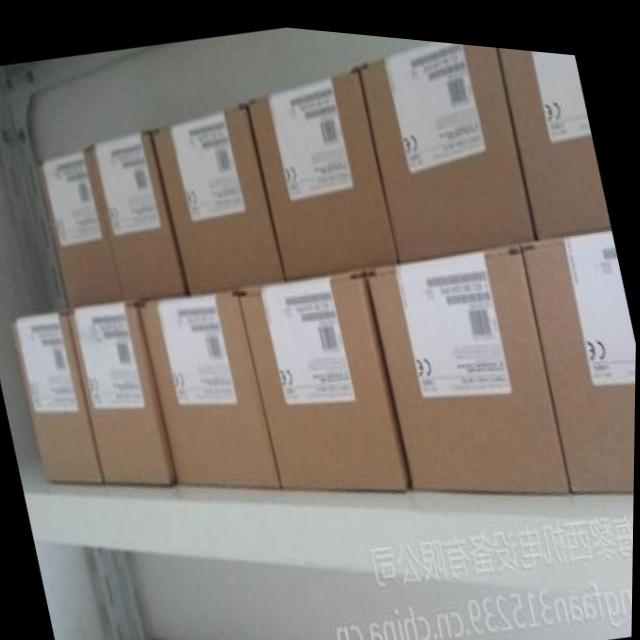box: (363, 233, 573, 481), (359, 33, 537, 254), (239, 265, 413, 483), (247, 58, 398, 271), (517, 222, 637, 481), (137, 289, 281, 479), (152, 98, 284, 295), (495, 38, 612, 227), (69, 304, 176, 480), (86, 126, 188, 302), (10, 313, 106, 480), (38, 150, 124, 309)
